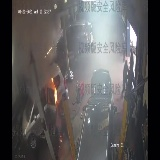fire: (50, 77, 59, 107)
